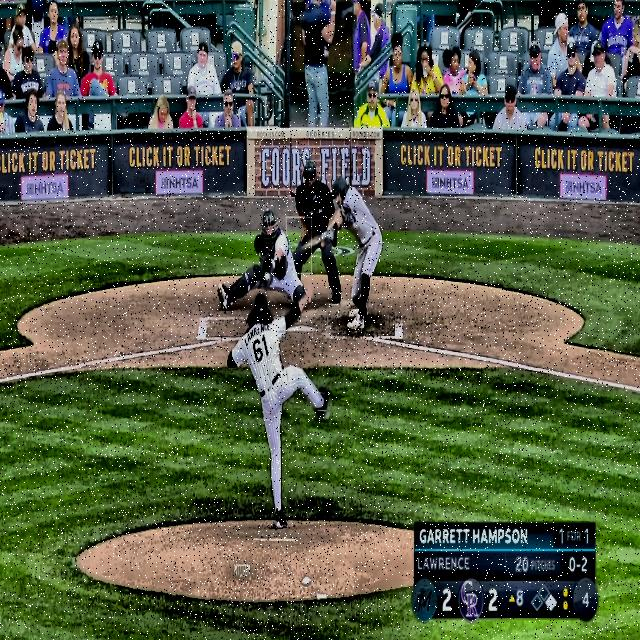baseball: (264, 270, 271, 283)
